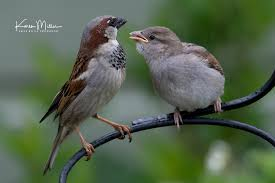hsparrow: (37, 14, 134, 167), (129, 24, 234, 140)
